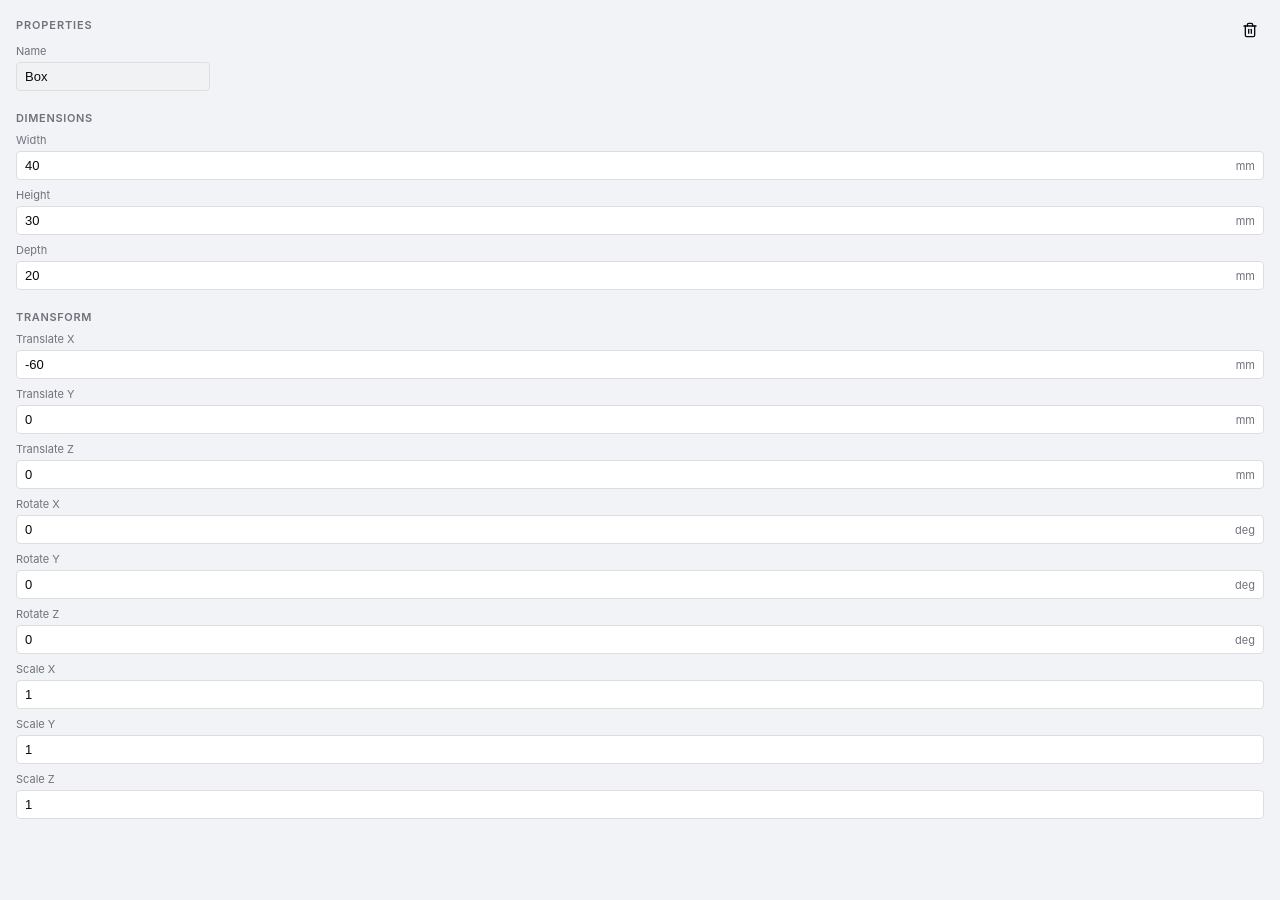
ContextPanel › rejects a non-positive dimension edit and shows an inline error
Replace the text in the number field labelled "Width" with "0" at (627, 166), box [25,152,1230,179]
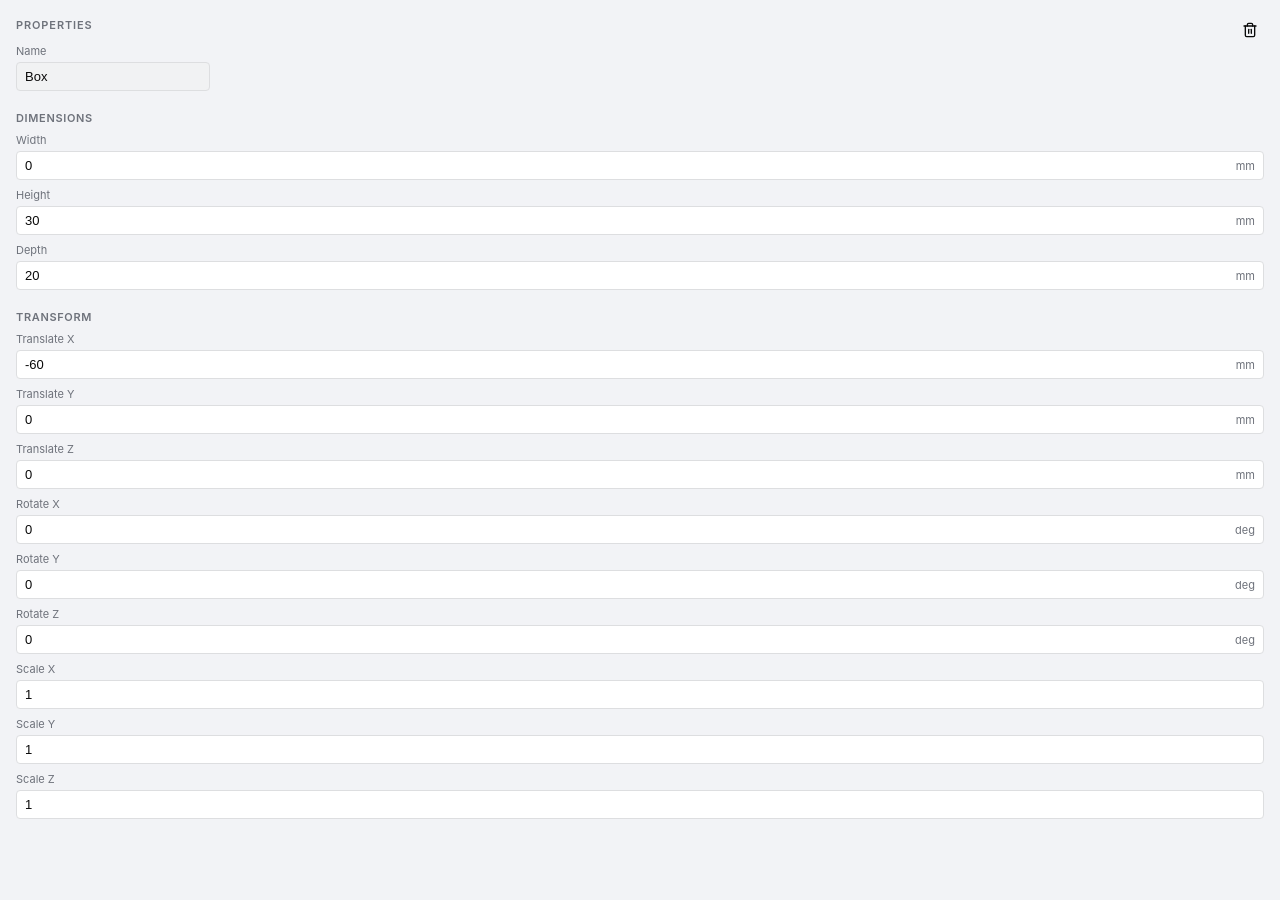
Leave the number field labelled "Width", box [25,152,1230,179]
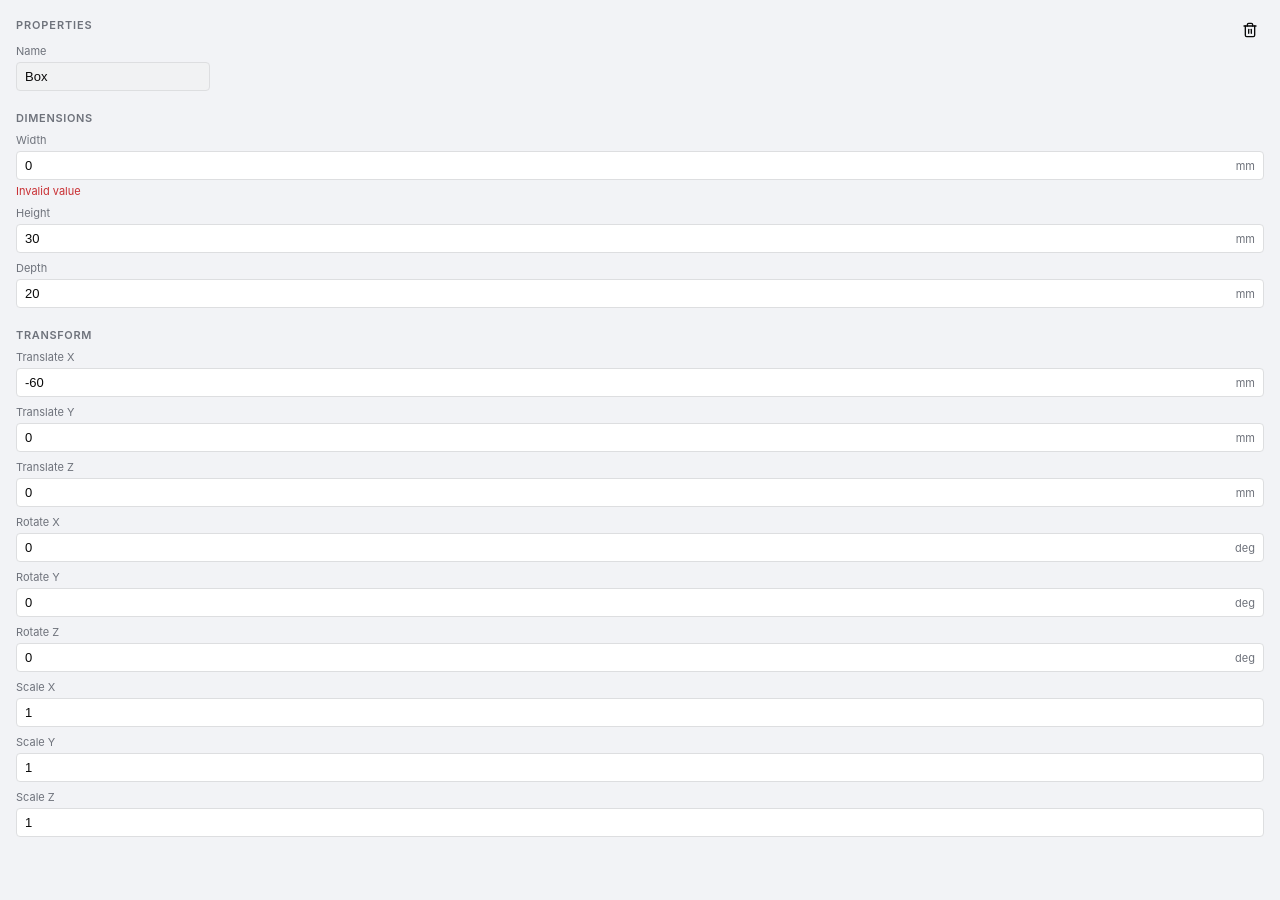
Check: the text "Invalid value" is shown, box [16,184,81,198]
